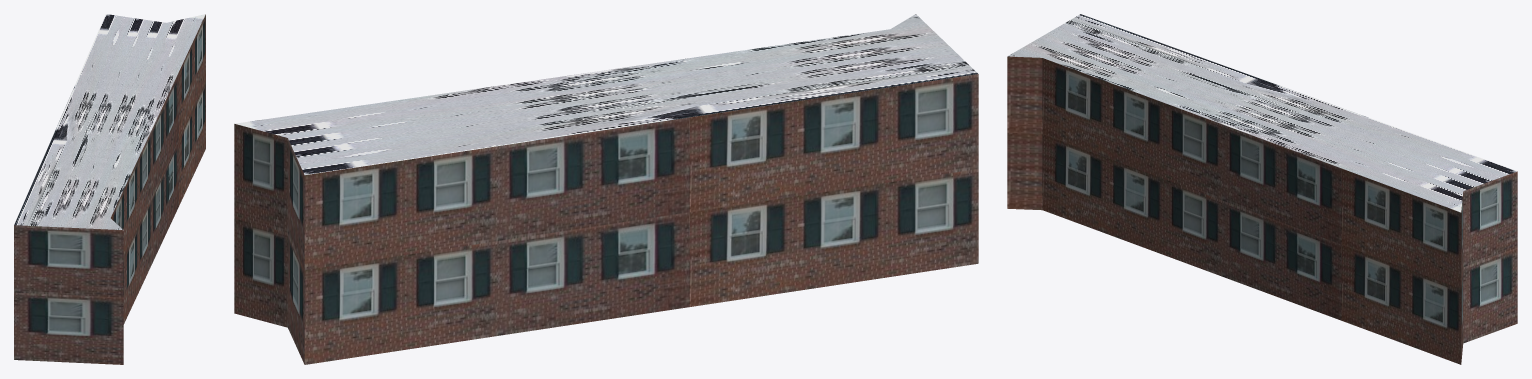
File: ResTex__5319.fbx
3 renders of one model, left to right at view 1: azimuth 30°, elevation 25°; view 2: azimuth 150°, elevation 25°; view 3: azimuth 270°, elevation 25°, orthographic. The views are drawn at different scales.
Parts seen in each view (by area): view 1: CityEngineMaterial_14_m, CityEngineMaterial_2_m; view 2: CityEngineMaterial_14_m, CityEngineMaterial_2_m; view 3: CityEngineMaterial_14_m, CityEngineMaterial_2_m.
Part boxes in pixels (box(x1,y1,x2,y2)): CityEngineMaterial_14_m: box(14, 14, 205, 364); CityEngineMaterial_2_m: box(14, 14, 205, 230); CityEngineMaterial_14_m: box(234, 74, 978, 364); CityEngineMaterial_2_m: box(235, 14, 977, 174); CityEngineMaterial_14_m: box(1007, 56, 1517, 364); CityEngineMaterial_2_m: box(1007, 14, 1517, 212).
Bounding box in the file's own units: 16.79 × 6 × 18.23.
2 materials, 2 textured.
